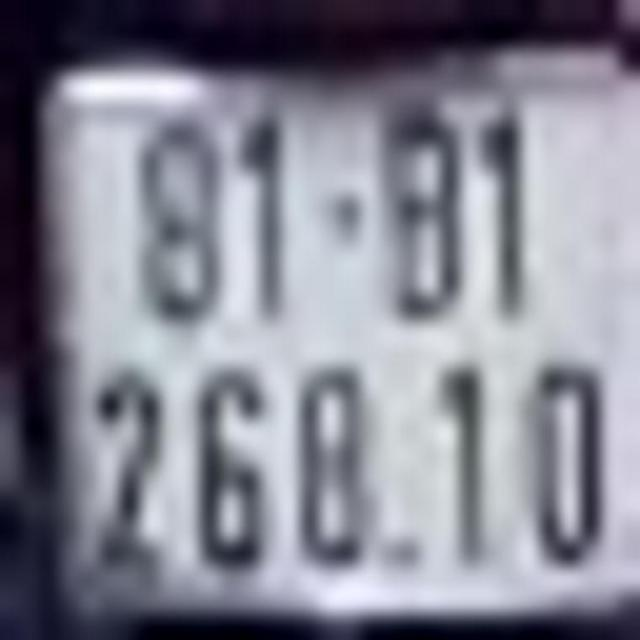0: (537, 356, 603, 567)
1: (433, 355, 495, 568), (236, 112, 296, 325), (478, 116, 533, 324)
2: (91, 370, 162, 572)
6: (193, 364, 275, 578)
8: (136, 119, 225, 323), (295, 344, 368, 577)
B: (391, 109, 465, 332)
